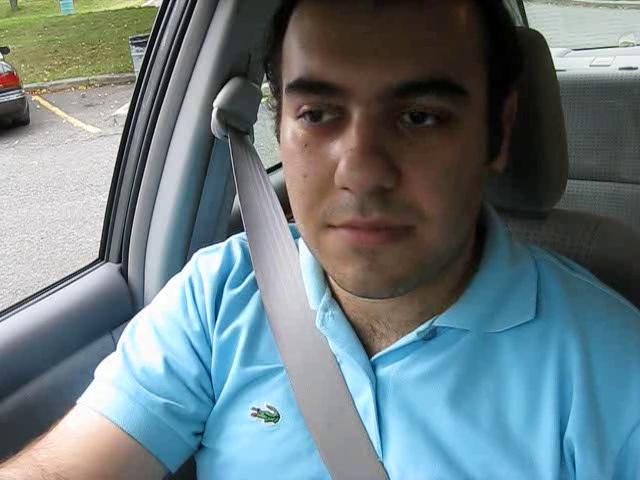no_yawn: (300, 197, 432, 267)
open_eyeL: (282, 88, 363, 146)
open_eyeR: (373, 87, 479, 149)
